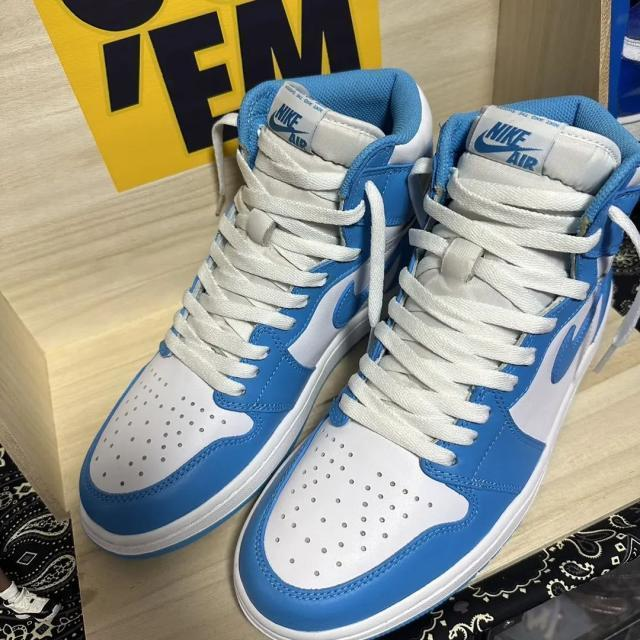nike original jordan 1: (233, 106, 636, 640), (79, 70, 434, 566)
